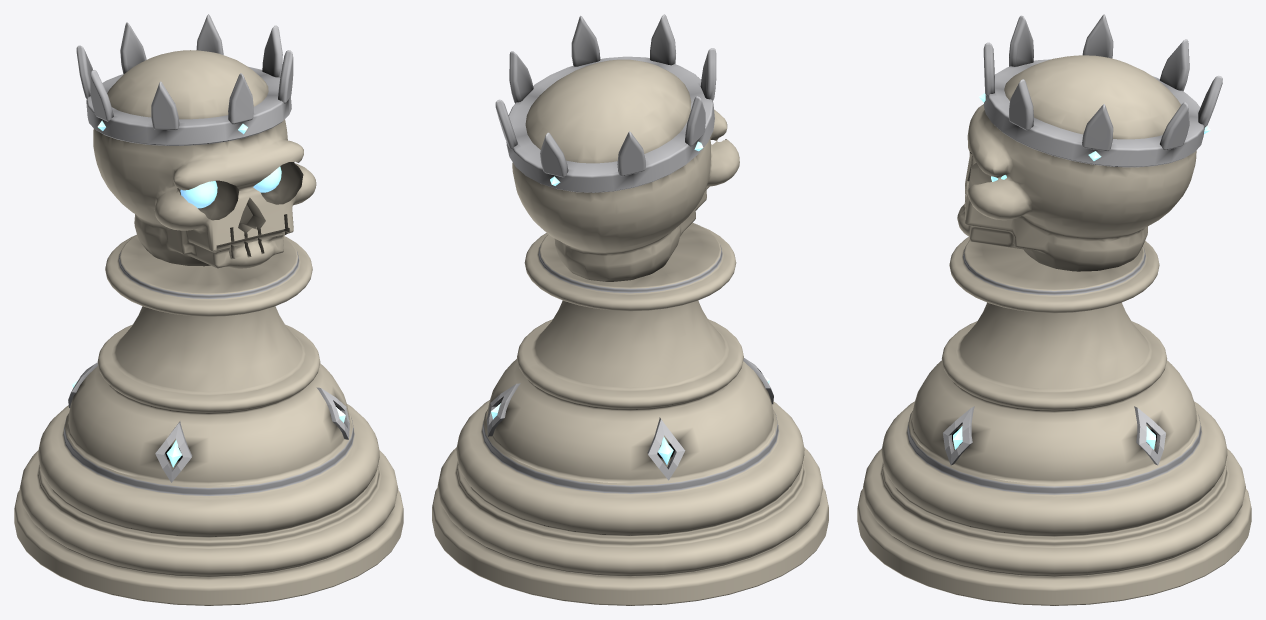
The model's file is commoner.glb.
The picture shows the model from 3 angles, left to right: view 1: azimuth 30°, elevation 25°; view 2: azimuth 150°, elevation 25°; view 3: azimuth 270°, elevation 25°; orthographic projection.
Parts seen in each view (by area): view 1: commoner; view 2: commoner; view 3: commoner.
Part boxes in pixels (x1,y1,x2,y2): commoner: [14, 14, 403, 605]; commoner: [432, 14, 828, 605]; commoner: [857, 14, 1251, 605].
Size of the model in its own units: 0.72 by 0.9691 by 0.72.
